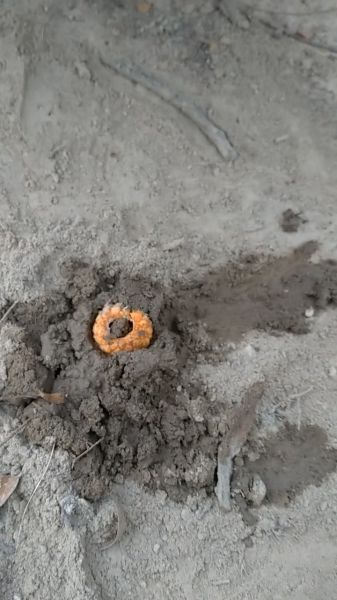eggs: (84, 296, 161, 358)
